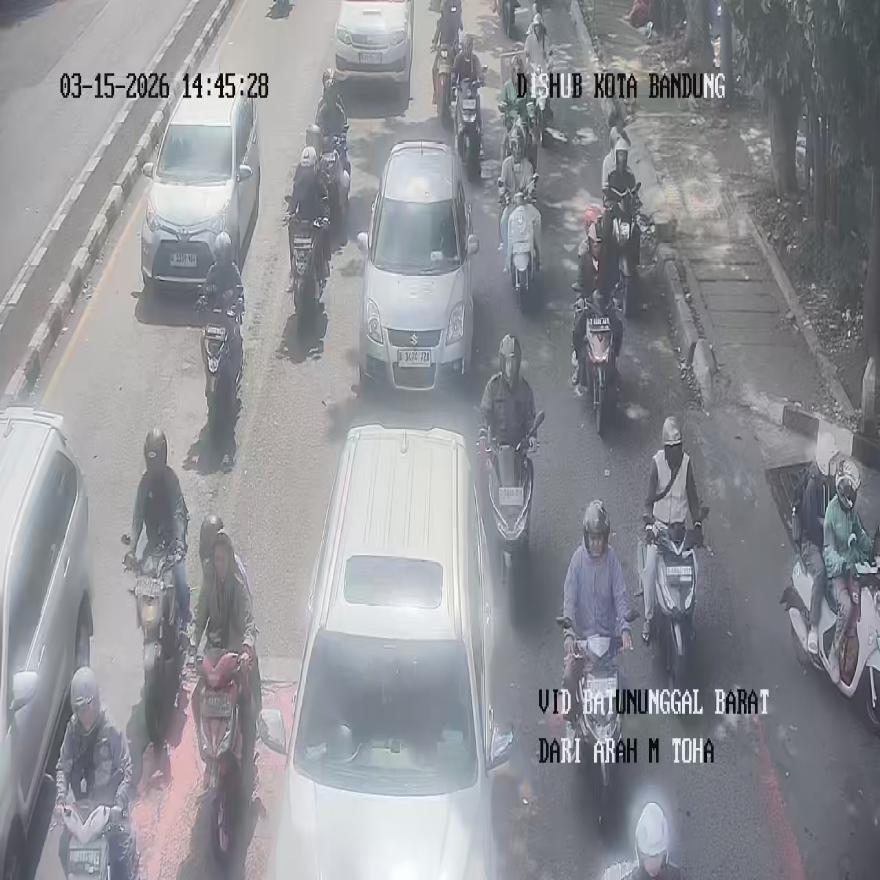Motor: (261, 426, 512, 876), (0, 408, 94, 878), (357, 140, 478, 392), (139, 73, 260, 292), (333, 0, 414, 93)
Truk: (54, 667, 136, 880), (781, 558, 880, 734), (558, 614, 630, 828), (192, 650, 258, 867), (122, 536, 187, 752), (478, 410, 544, 618), (638, 508, 704, 693), (198, 288, 242, 461), (575, 290, 622, 435), (57, 802, 138, 880), (602, 182, 641, 318), (500, 182, 540, 309), (288, 212, 327, 334), (318, 127, 351, 249), (454, 69, 483, 178), (499, 96, 537, 178), (432, 42, 454, 124), (530, 67, 550, 146), (495, 0, 518, 38)
